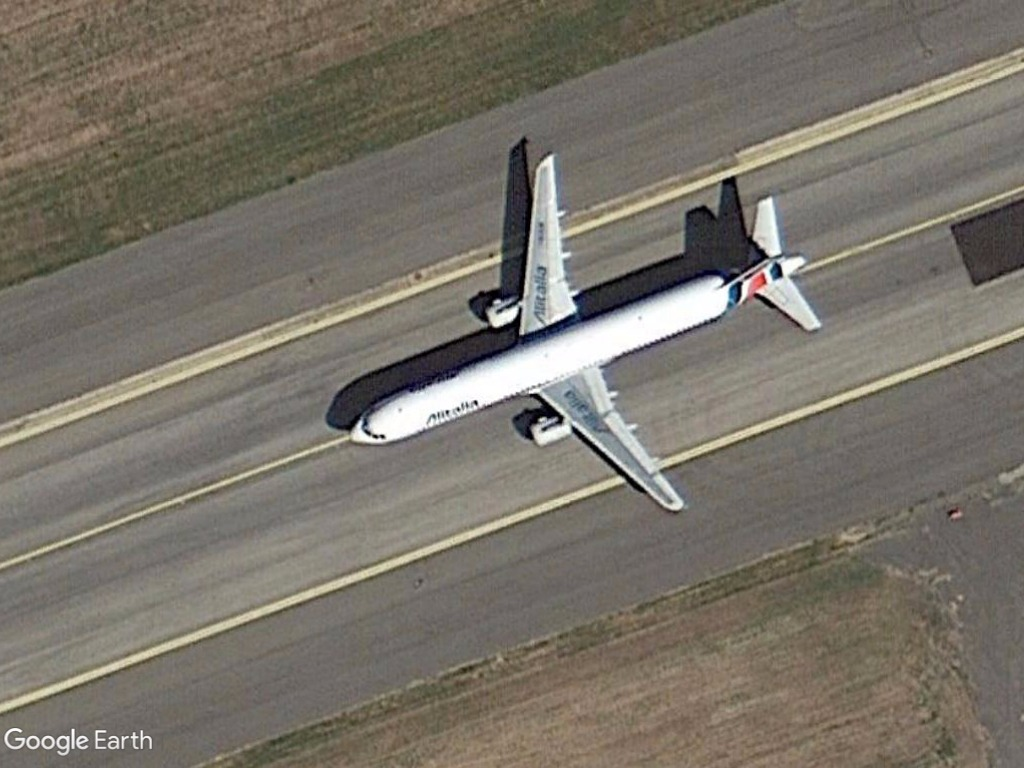airliner: (348, 156, 823, 523)
